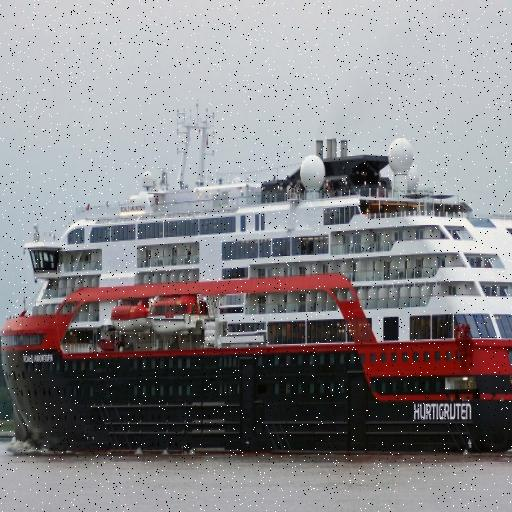cruises: (1, 96, 512, 457)
